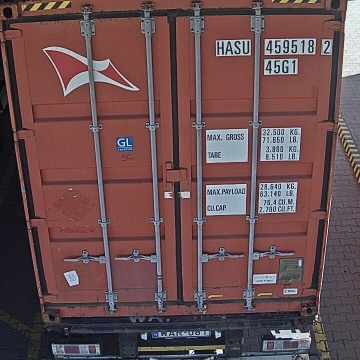serial_id: (216, 39, 331, 53)
